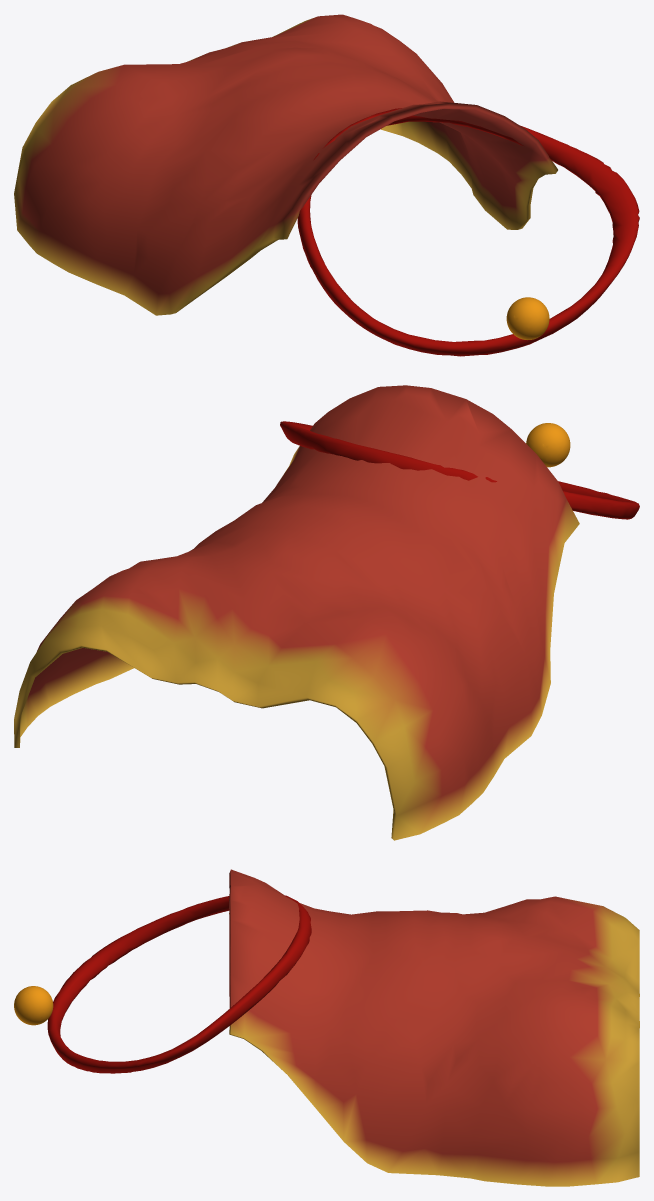
Rendered from aochoang.glb.
The picture shows the model from 3 angles, top to bottom: view 1: azimuth 30°, elevation 25°; view 2: azimuth 150°, elevation 25°; view 3: azimuth 270°, elevation 25°; orthographic projection. The views are drawn at different scales.
Visible parts, largest first — view 1: Ao_Choang, Co_Ao, Khoa_Ao; view 2: Ao_Choang, Co_Ao, Khoa_Ao; view 3: Ao_Choang, Co_Ao, Khoa_Ao.
Part boxes in pixels (x1,y1,x2,y2): Ao_Choang: (14,14,557,315); Co_Ao: (297,108,639,356); Khoa_Ao: (506,297,549,339); Ao_Choang: (14,385,579,840); Co_Ao: (280,421,639,519); Khoa_Ao: (526,423,570,467); Ao_Choang: (229,869,639,1186); Co_Ao: (47,895,311,1073); Khoa_Ao: (14,986,53,1025).
Size of the model in its own units: 0.308 by 0.1651 by 0.4442.
